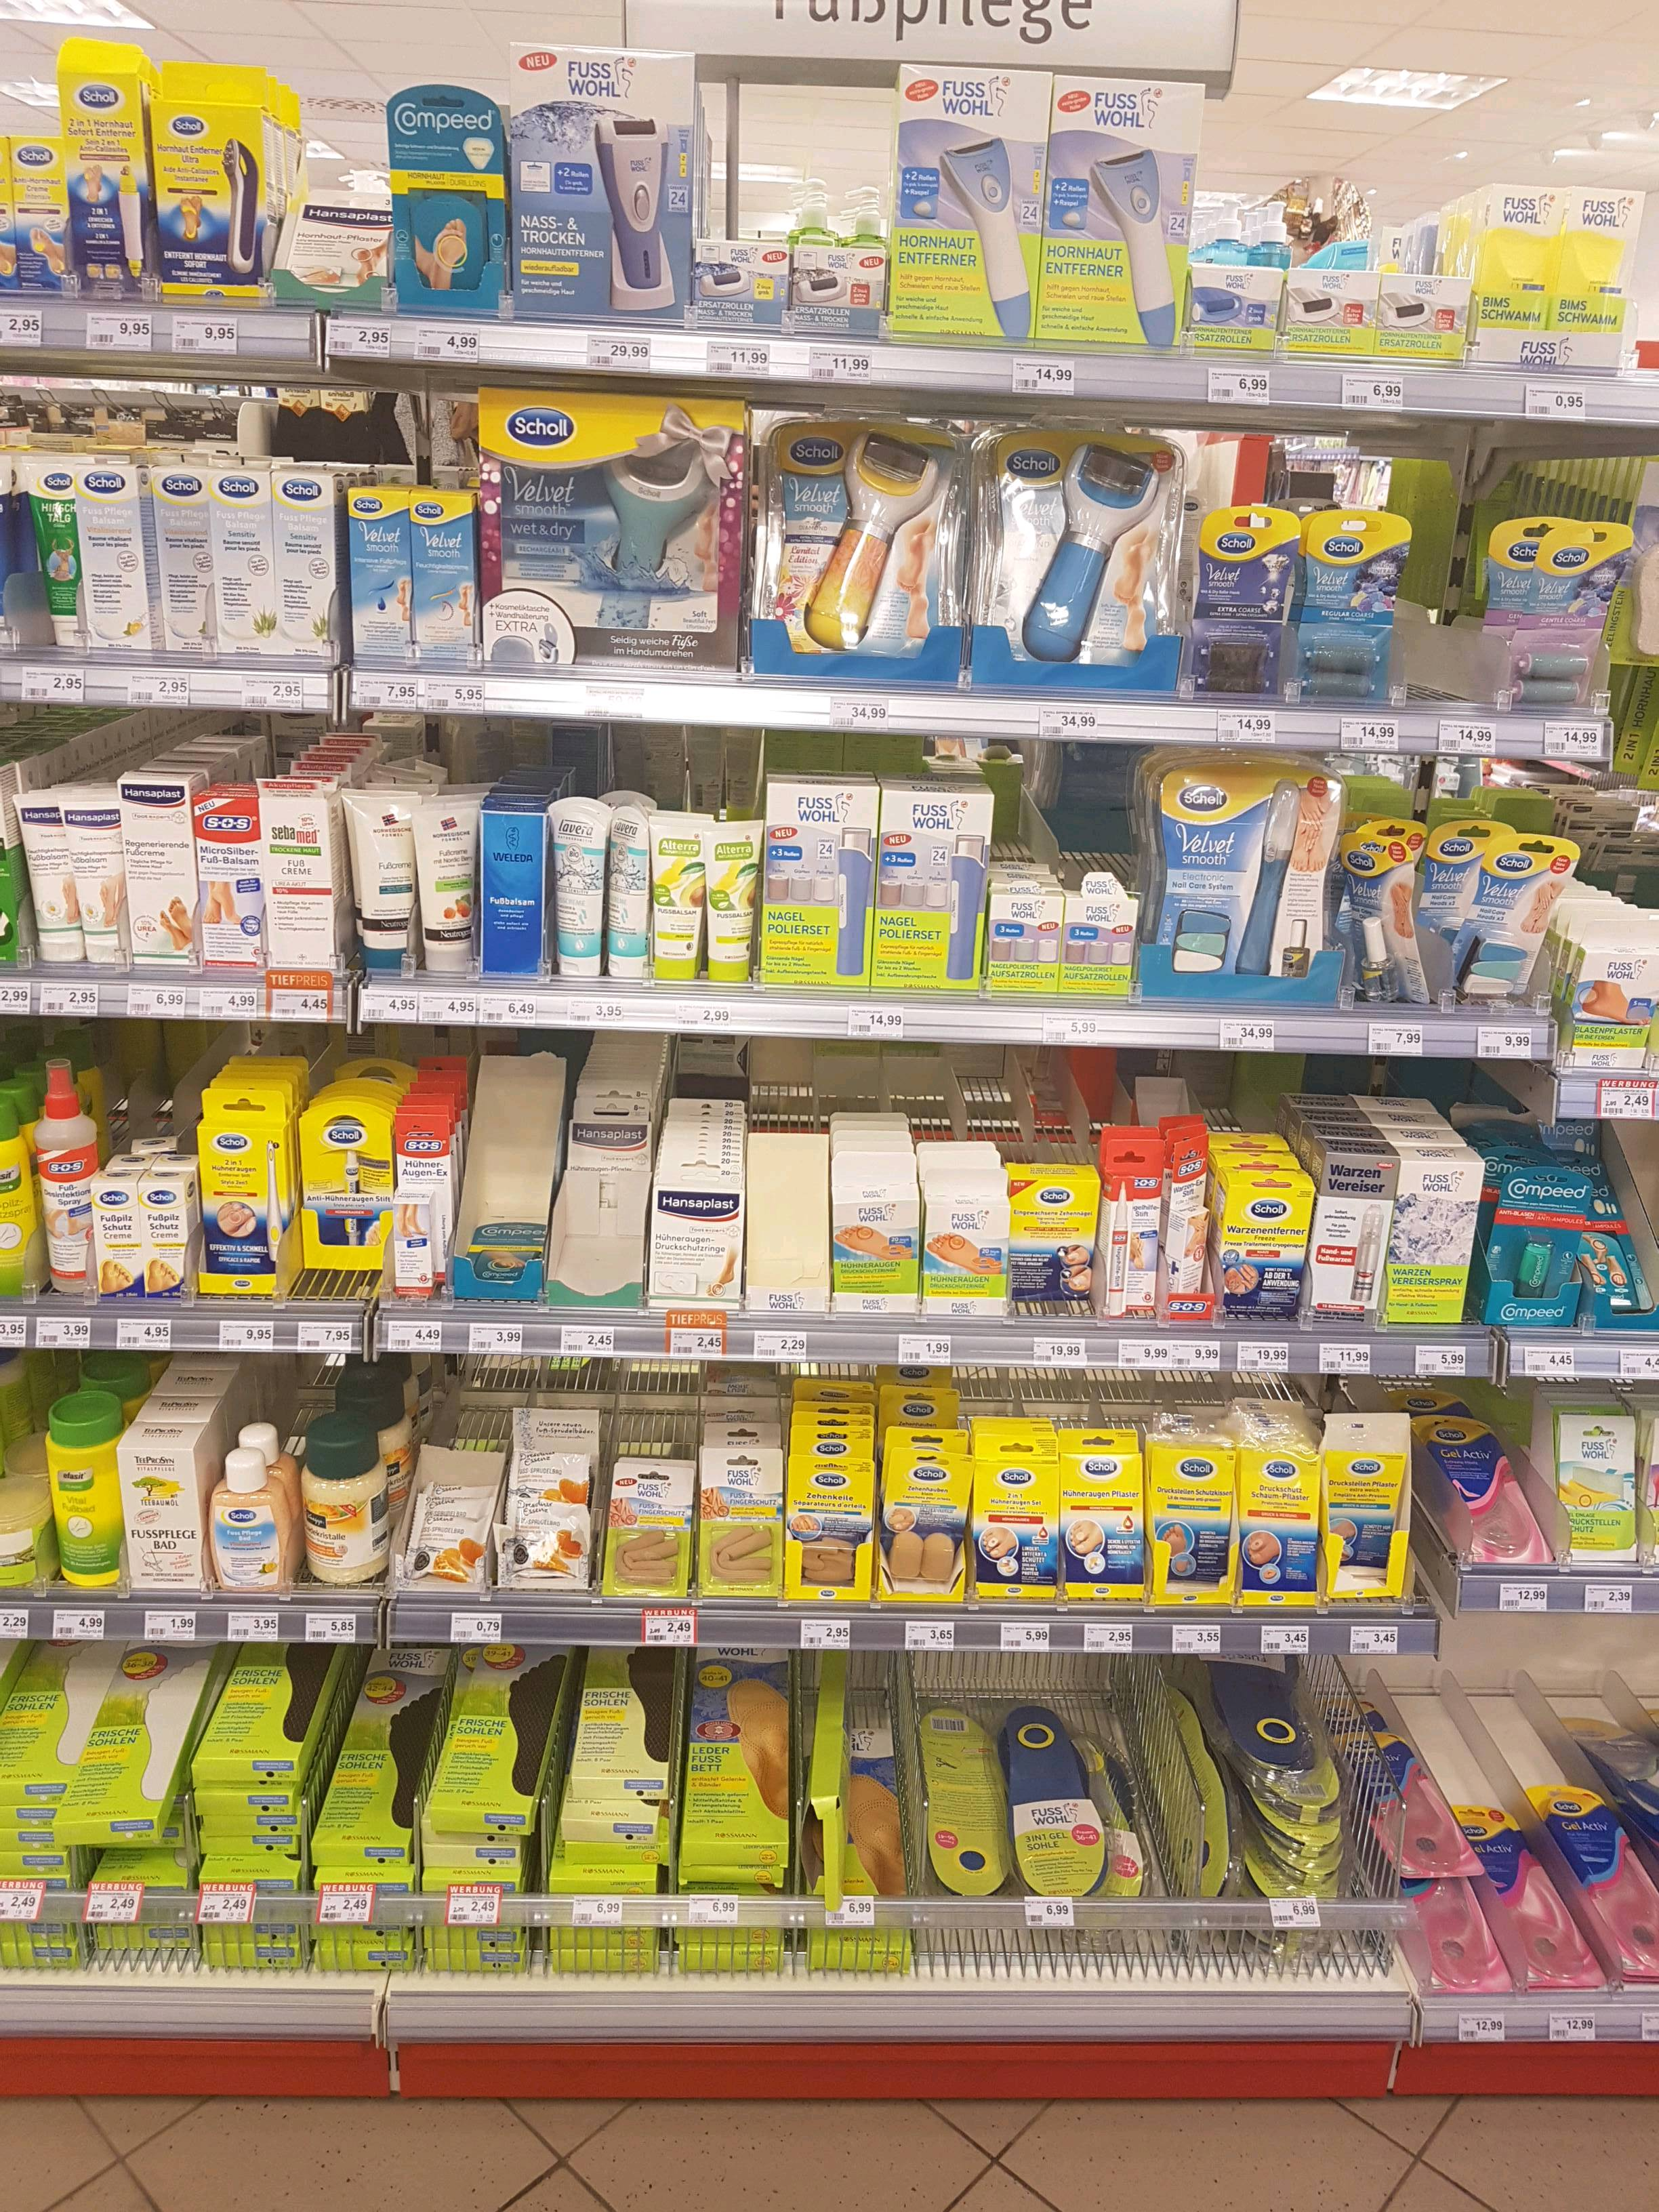product: (484, 387, 739, 674), (512, 40, 699, 324), (756, 423, 967, 674), (988, 423, 1178, 700), (1148, 752, 1335, 1003), (884, 68, 1044, 327), (1051, 75, 1188, 345), (390, 68, 505, 315), (150, 77, 265, 301), (47, 40, 143, 296), (1427, 822, 1554, 1010), (1349, 1698, 1480, 1879), (875, 782, 985, 993), (1500, 529, 1628, 707), (1185, 503, 1298, 700), (906, 1689, 1009, 1900), (1300, 505, 1405, 711), (1014, 1695, 1114, 1895), (765, 777, 857, 984), (1432, 1402, 1534, 1583), (193, 1094, 281, 1301), (1549, 193, 1650, 368), (1330, 1416, 1422, 1606), (291, 1092, 380, 1273), (115, 784, 200, 970), (14, 455, 94, 651), (748, 1125, 829, 1315), (303, 1421, 396, 1587), (284, 174, 392, 315), (1304, 1143, 1387, 1324), (1141, 1681, 1213, 1892), (1466, 190, 1549, 369), (1394, 1148, 1478, 1325), (788, 1439, 880, 1597), (1145, 1435, 1230, 1606), (261, 787, 338, 974), (33, 1057, 91, 1301), (1551, 1414, 1640, 1571), (1234, 1435, 1312, 1613), (1486, 1163, 1577, 1317), (1563, 927, 1654, 1080), (1399, 1883, 1516, 2001), (1060, 1447, 1145, 1606), (40, 1404, 119, 1576), (1582, 1162, 1659, 1338), (596, 1456, 694, 1592), (1222, 1644, 1323, 1775), (204, 1447, 291, 1597), (1222, 1169, 1309, 1317), (969, 1456, 1054, 1604), (697, 1451, 781, 1601), (389, 1108, 453, 1299), (880, 1440, 953, 1608), (697, 812, 765, 988), (214, 465, 277, 655), (10, 792, 75, 975), (101, 460, 162, 653), (922, 1190, 1012, 1317), (347, 488, 410, 667), (1018, 1170, 1089, 1327), (401, 1470, 497, 1587), (1345, 852, 1420, 1000), (415, 798, 477, 974), (1591, 1839, 1659, 1998), (282, 463, 338, 655), (483, 799, 542, 974), (1100, 1151, 1157, 1329), (349, 787, 403, 974), (127, 1439, 192, 1594), (835, 1193, 913, 1320), (662, 1191, 741, 1317), (411, 489, 467, 665), (204, 787, 256, 974), (547, 801, 601, 979), (0, 1642, 56, 1803), (1378, 232, 1450, 355), (164, 465, 207, 657), (1286, 266, 1371, 359), (460, 1193, 535, 1296), (652, 815, 695, 986), (1171, 1134, 1211, 1317), (1066, 883, 1131, 996), (1194, 261, 1277, 348), (1527, 1876, 1584, 2000), (985, 888, 1054, 989), (606, 813, 648, 979), (789, 174, 835, 310), (498, 1519, 582, 1592), (141, 1170, 186, 1305), (91, 1172, 136, 1303), (1236, 1862, 1354, 1911), (2, 1092, 28, 1308), (89, 1853, 186, 1911), (701, 240, 781, 310), (5, 132, 40, 289), (82, 794, 112, 975), (842, 183, 880, 317), (575, 1111, 641, 1172), (2, 1472, 37, 1580), (195, 1912, 298, 1949), (795, 1944, 913, 1975), (84, 1923, 195, 1956), (305, 1912, 411, 1946), (192, 1862, 303, 1893), (1249, 1813, 1337, 1853), (429, 394, 476, 465), (42, 1817, 160, 1844), (680, 1836, 789, 1865), (188, 1756, 303, 1784), (416, 1806, 537, 1832), (378, 395, 420, 469), (423, 1949, 532, 1977), (411, 1919, 519, 1947), (552, 1811, 660, 1839), (282, 387, 326, 455), (666, 1865, 781, 1890), (519, 1407, 596, 1444), (307, 1839, 420, 1864), (547, 1932, 669, 1954), (206, 1949, 310, 1975), (423, 1867, 528, 1893), (415, 1841, 525, 1865), (552, 1958, 667, 1980), (516, 1449, 580, 1489), (0, 1946, 78, 1977), (192, 1811, 300, 1834), (676, 1921, 784, 1944), (676, 1947, 784, 1970), (558, 1844, 671, 1865), (1258, 1785, 1354, 1810), (566, 1777, 669, 1799), (329, 390, 364, 456), (308, 1883, 418, 1902), (0, 1853, 70, 1883), (542, 1876, 660, 1893), (188, 1789, 293, 1808), (0, 1918, 73, 1944), (315, 1952, 416, 1970), (188, 1841, 298, 1857), (502, 1498, 580, 1515)
